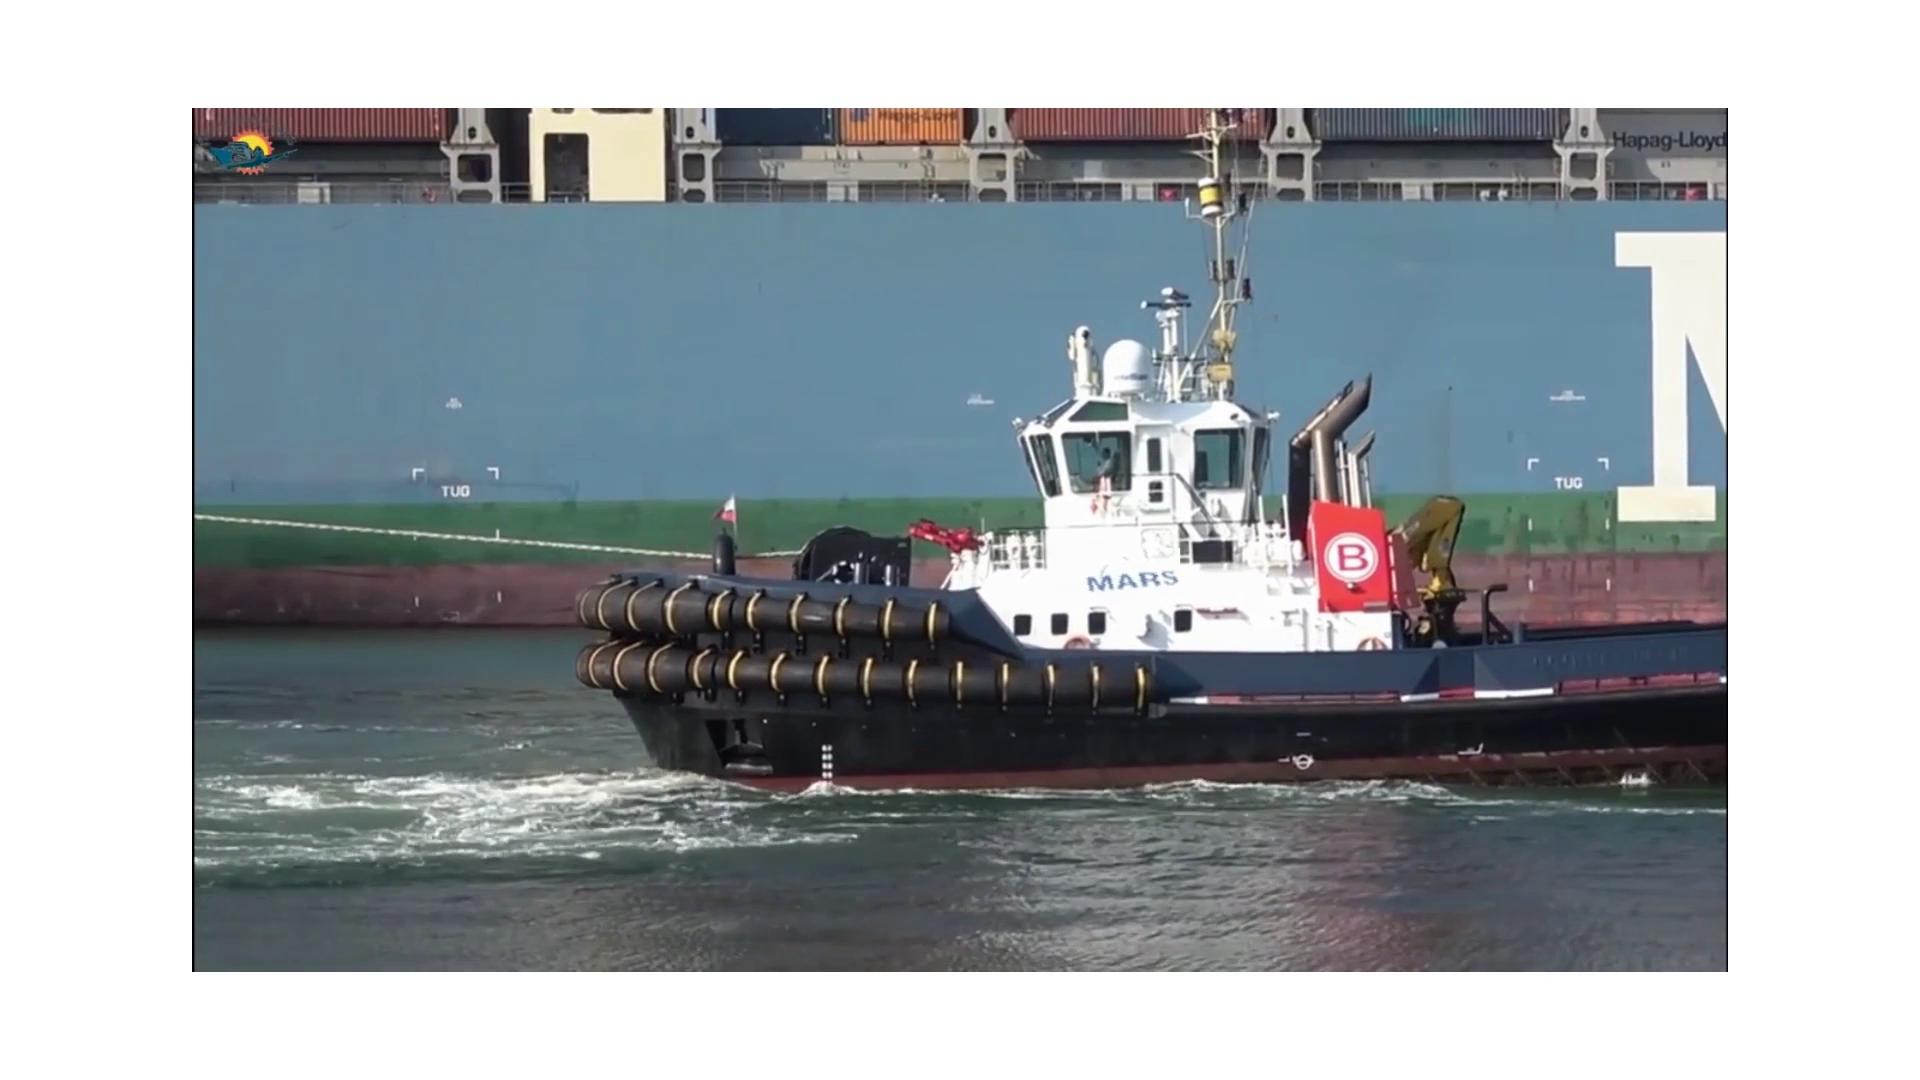OCR: (1058, 549, 1180, 604)
